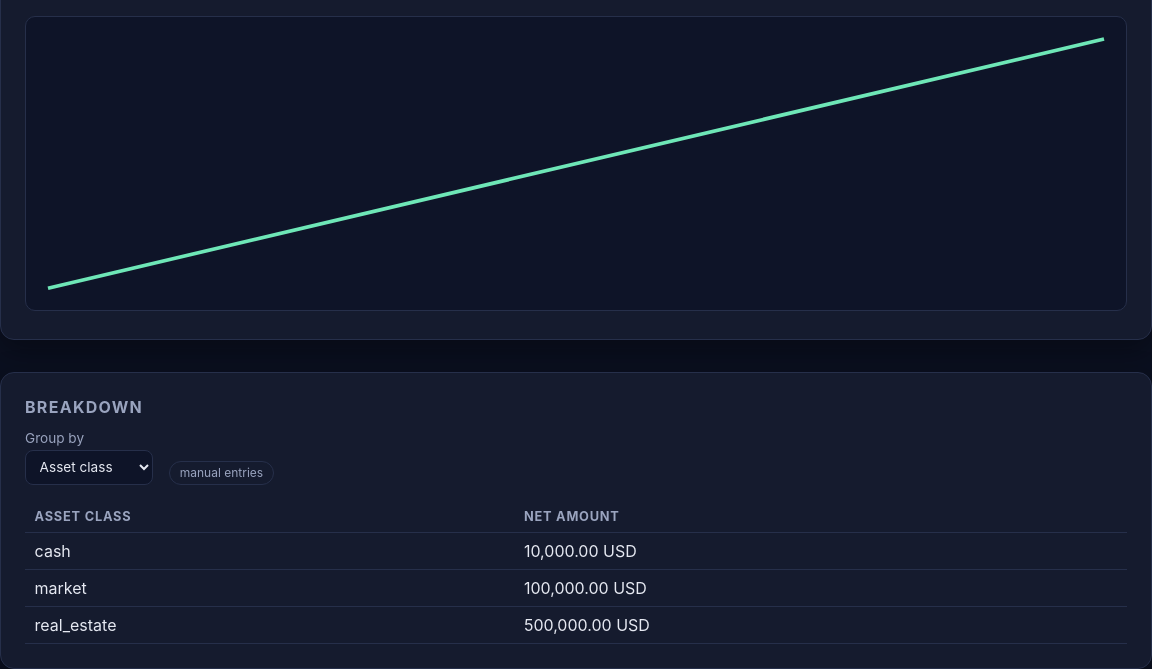
Test: NetWorthView › switches the breakdown grouping
This screenshot has width=1152, height=669.
(page scrolled)
Check: the text "real_estate" is shown, box [25,606,514,643]
Select "Account type" in the dropdown labelled "Group by" at (89, 467), box [25,450,153,485]
(page scrolled)
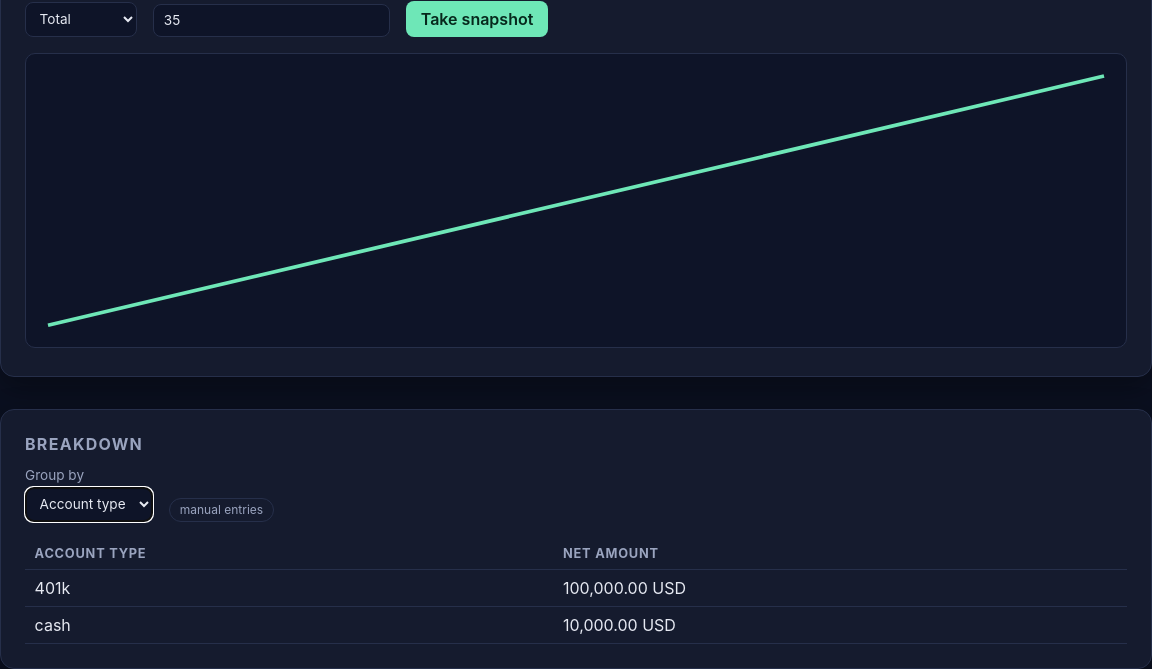
Check: the text "401k" is shown, box [25,569,553,606]
